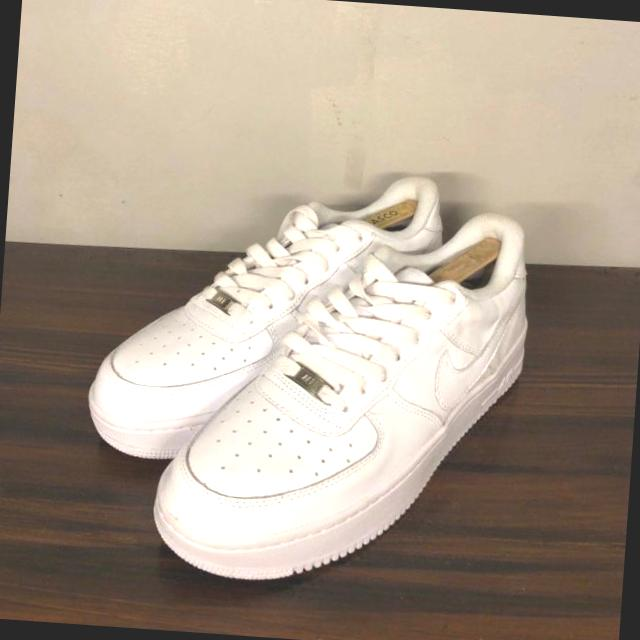nike_fake_airforce: (146, 190, 525, 600), (78, 152, 454, 483)
